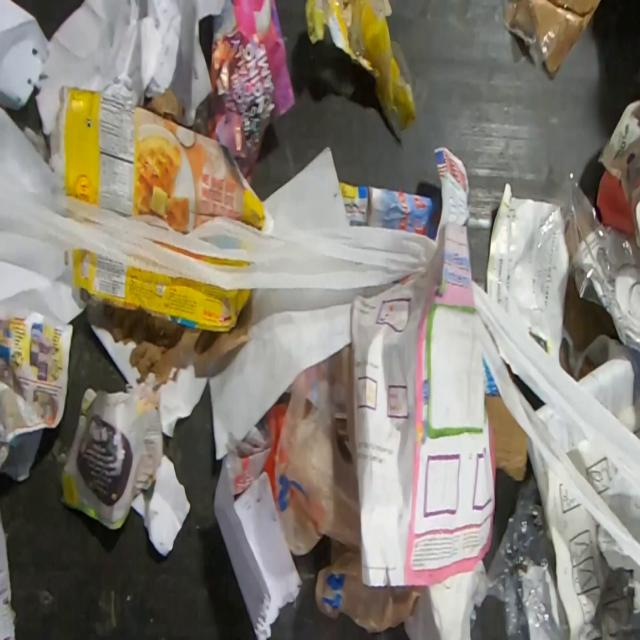cardboard: (48, 83, 268, 236), (63, 248, 255, 393), (484, 356, 528, 482)
soft_plastic: (273, 340, 423, 635), (537, 170, 640, 350), (305, 0, 417, 134), (485, 470, 570, 639), (492, 0, 602, 82)
